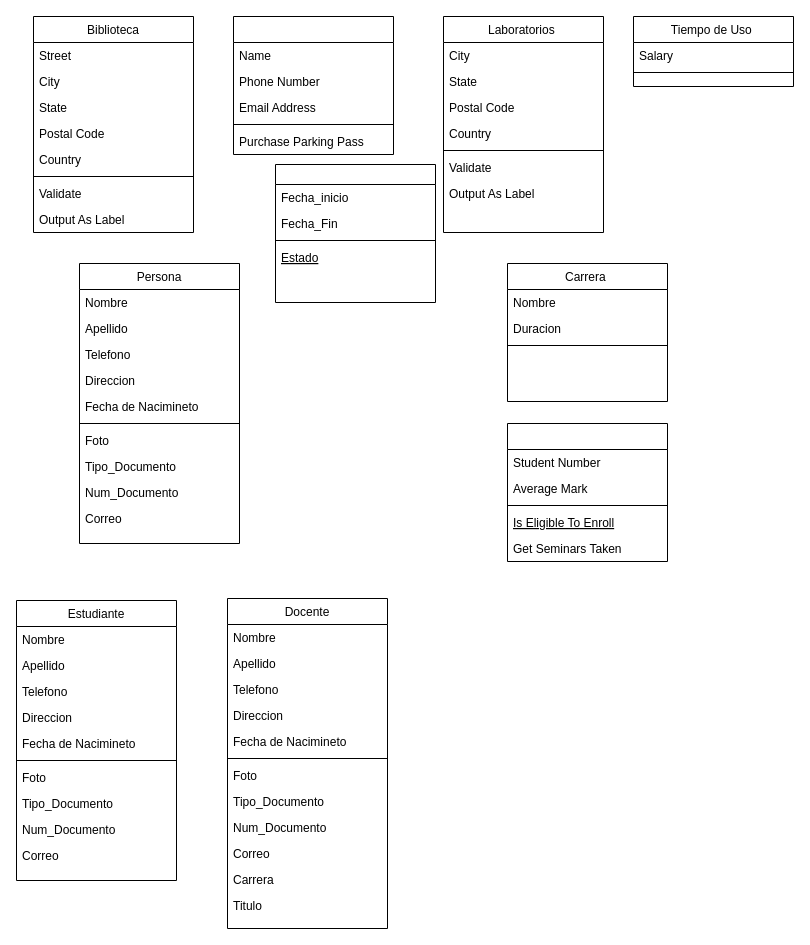
Some shapes in this 810 by 945 pixel diagram are drawn without their labels. The box of each missing label's shape, as (x1, y1, x2, y2) in pixels:
Horarios: (506, 422, 668, 562)
Reservas: (274, 164, 436, 302)
Salas de Lectura: (232, 16, 394, 154)
